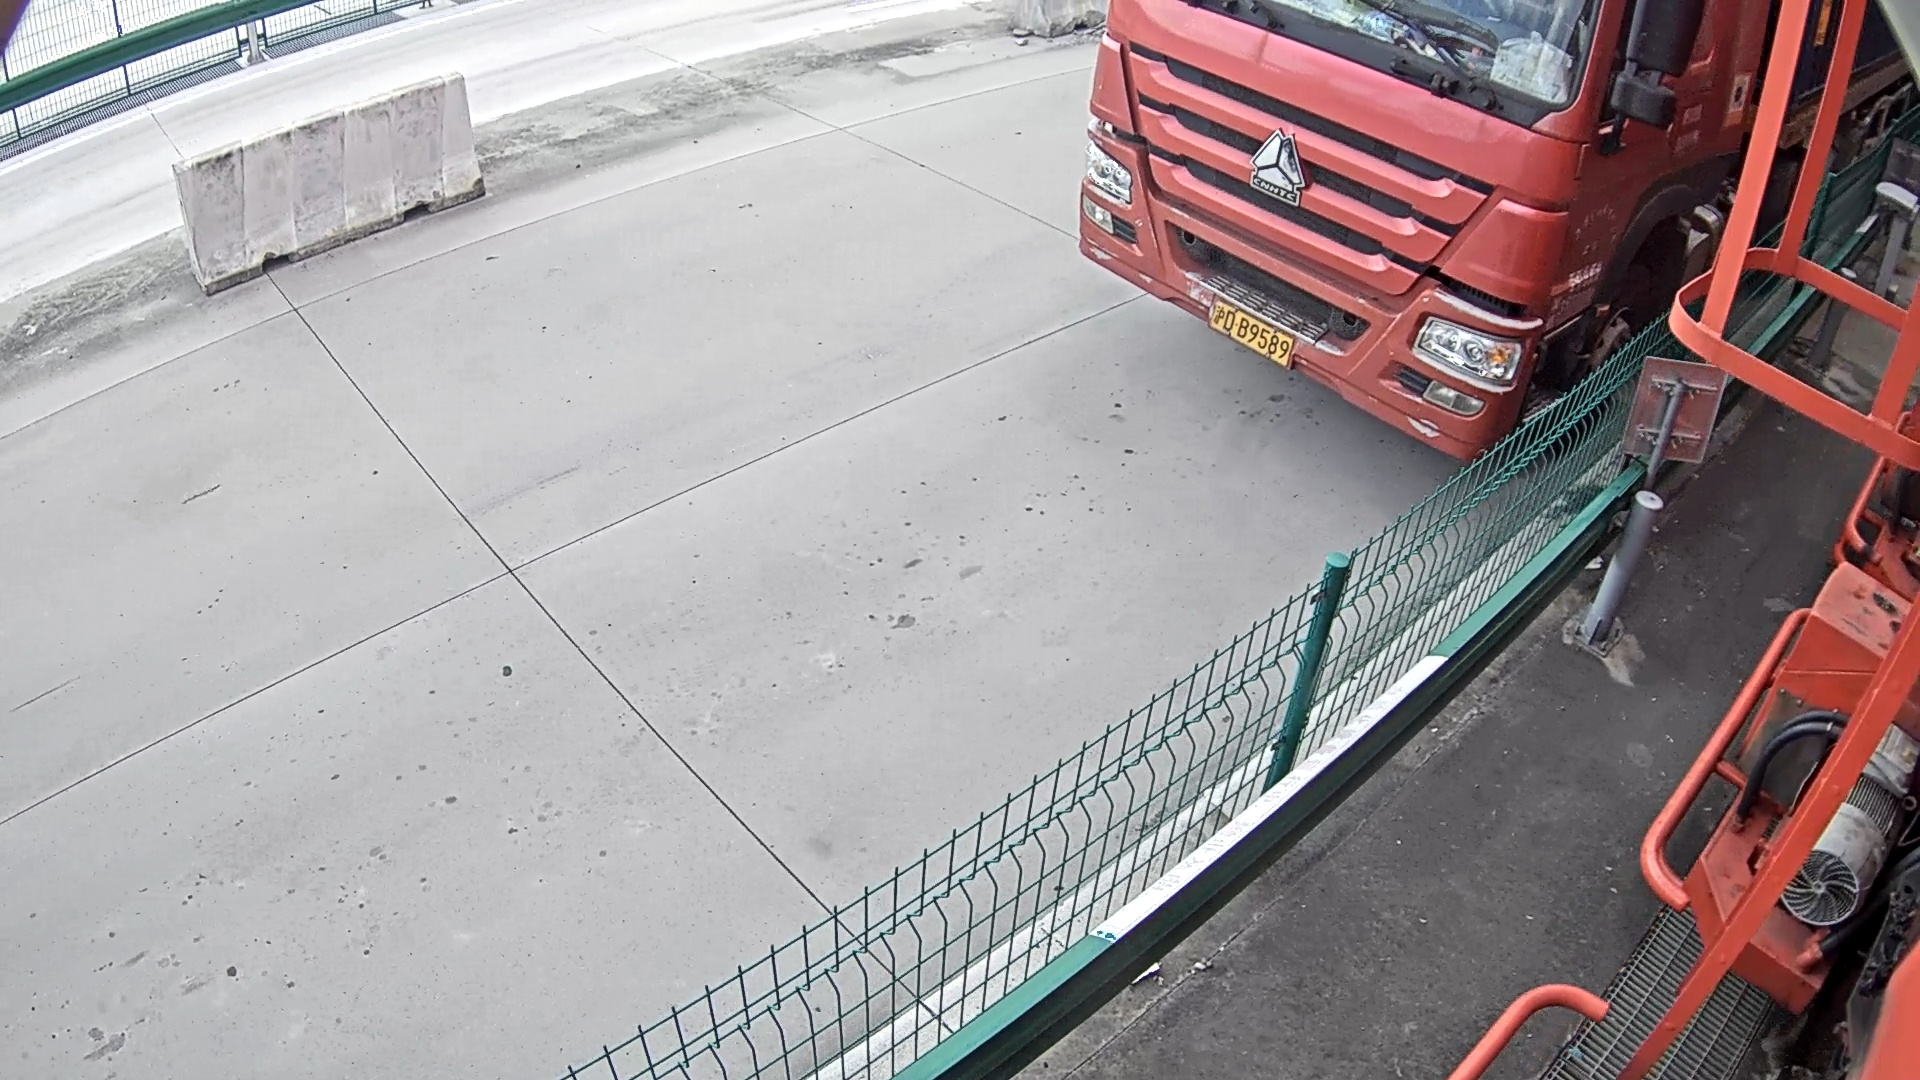head: (1085, 1, 1771, 462)
plate: (1208, 300, 1292, 369)
